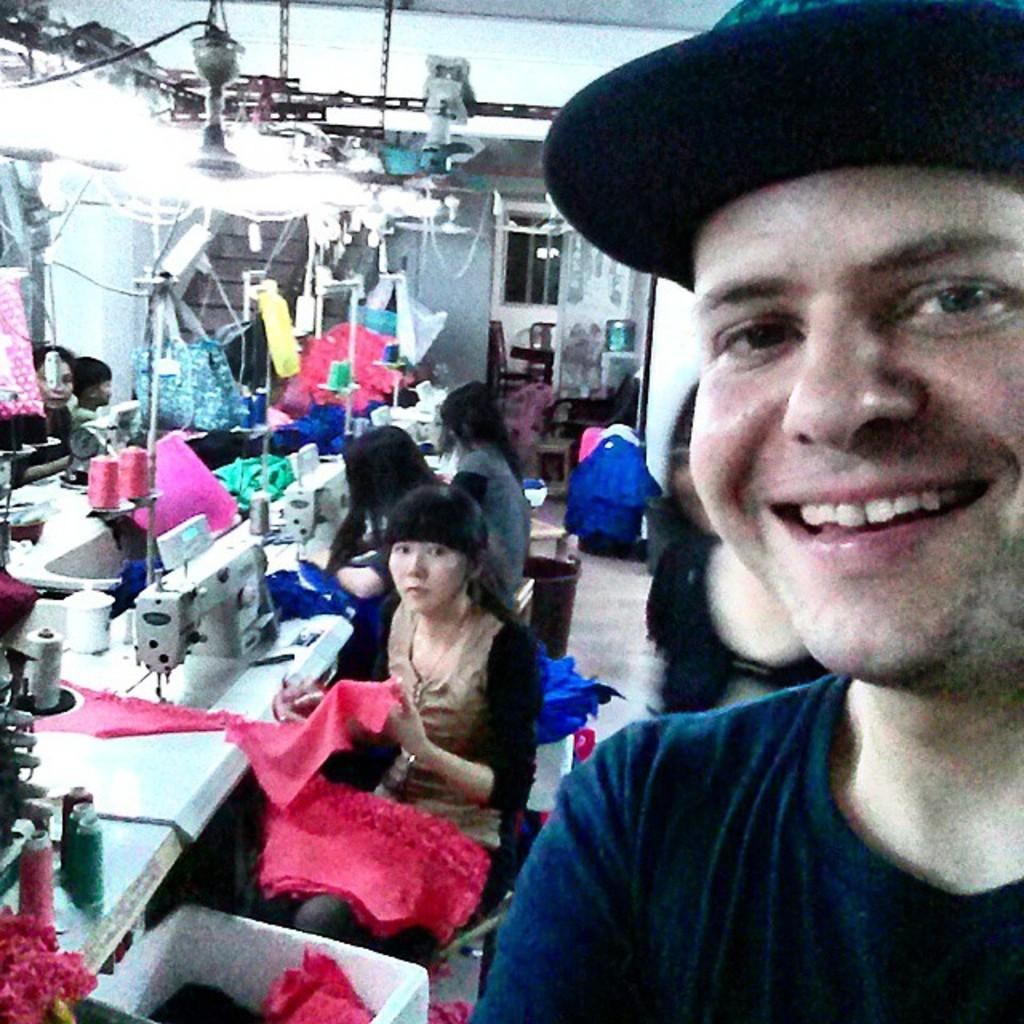Hat: (538, 0, 1022, 299)
